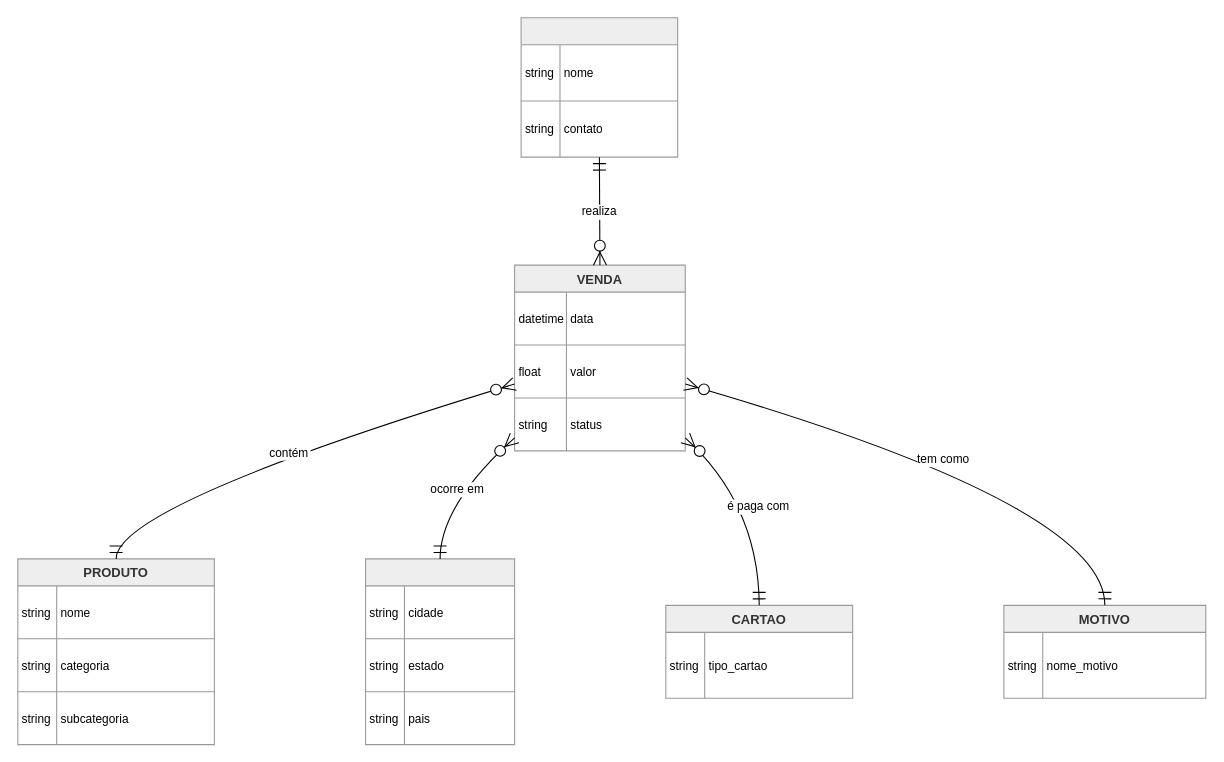
Image size: 1224x762. Some labels were removed from this diagram. Each missing label, with the box of its shape:
CLIENTE: (520, 17, 678, 157)
LOCALIDADE: (364, 558, 515, 745)
